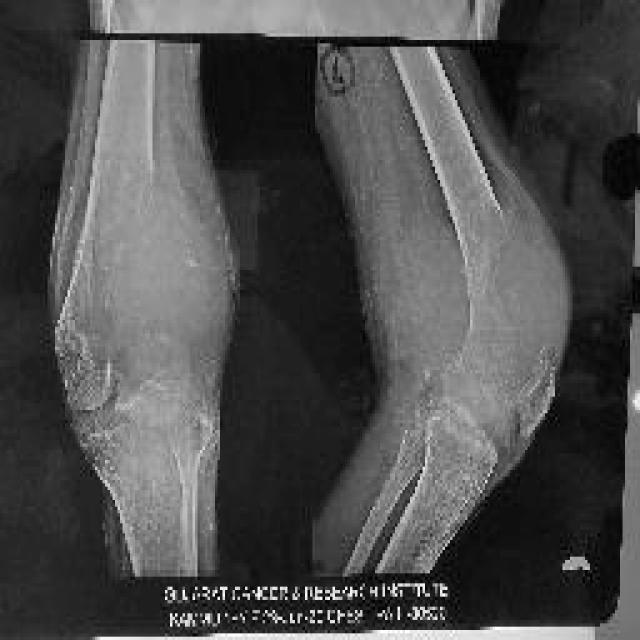bone-cancer: (66, 155, 230, 393), (479, 215, 552, 393)
